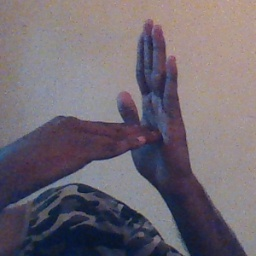Z: (73, 18, 189, 184)
